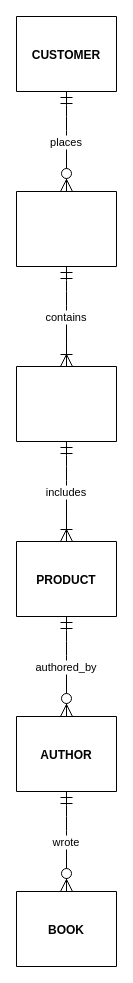
Some shapes in this 133 by 983 pixel diagram are drawn without their labels. The box of each missing label's shape, as (x1, y1, x2, y2) in pixels:
ORDER: (16, 190, 116, 266)
ORDER_ITEM: (16, 366, 116, 442)
